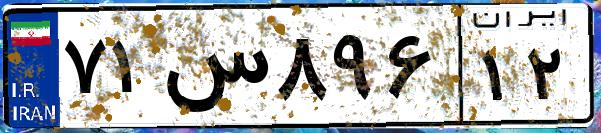1: (475, 38, 525, 113), (110, 28, 158, 98)
2: (525, 38, 570, 115)
6: (385, 28, 445, 110)
7: (57, 26, 110, 100)
8: (270, 28, 330, 110)
9: (330, 28, 385, 110)
س: (158, 20, 270, 120)
